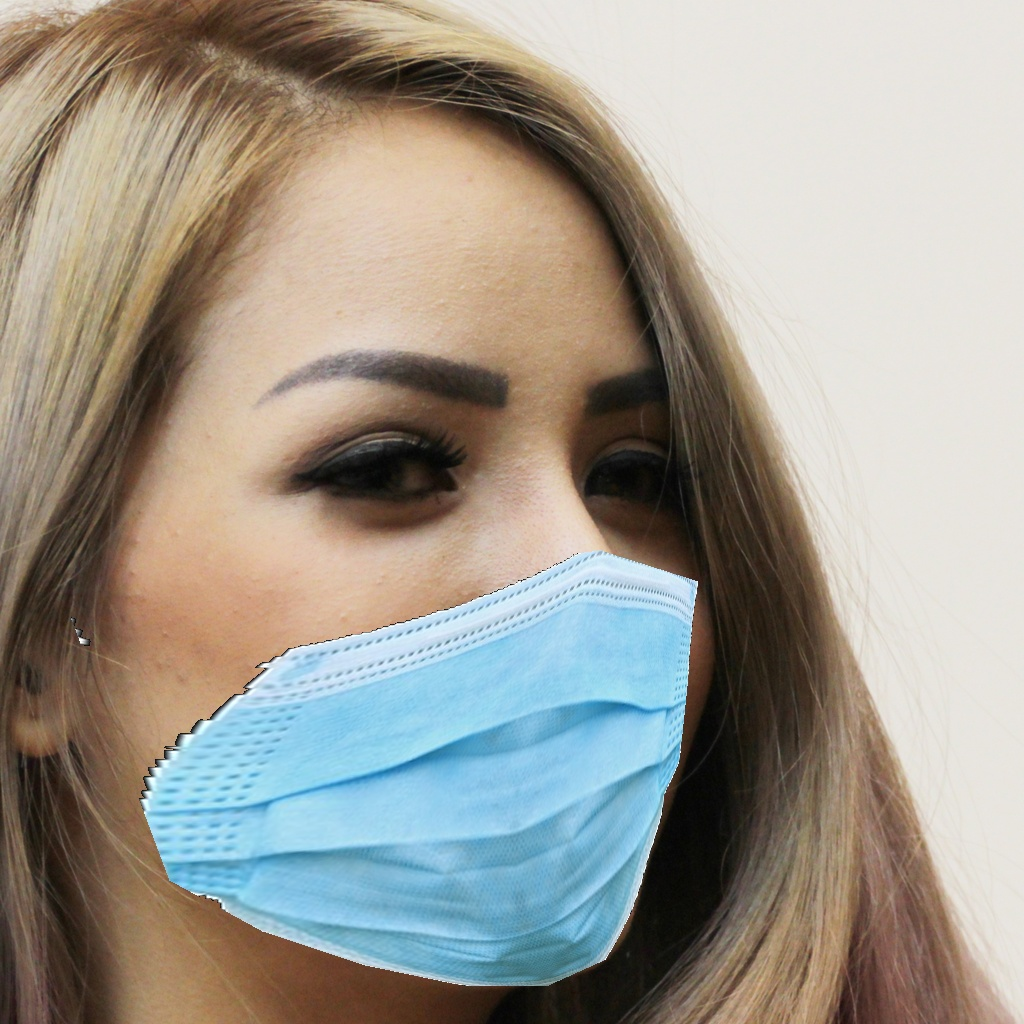Mask: (143, 339, 726, 990)
